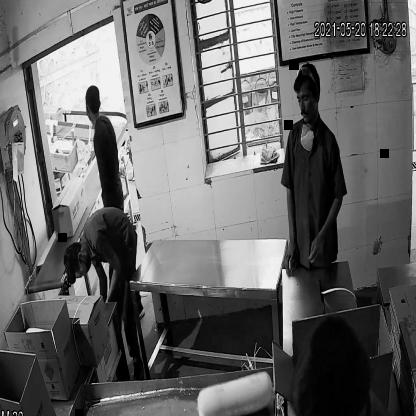no_goggles: (292, 86, 321, 108)
